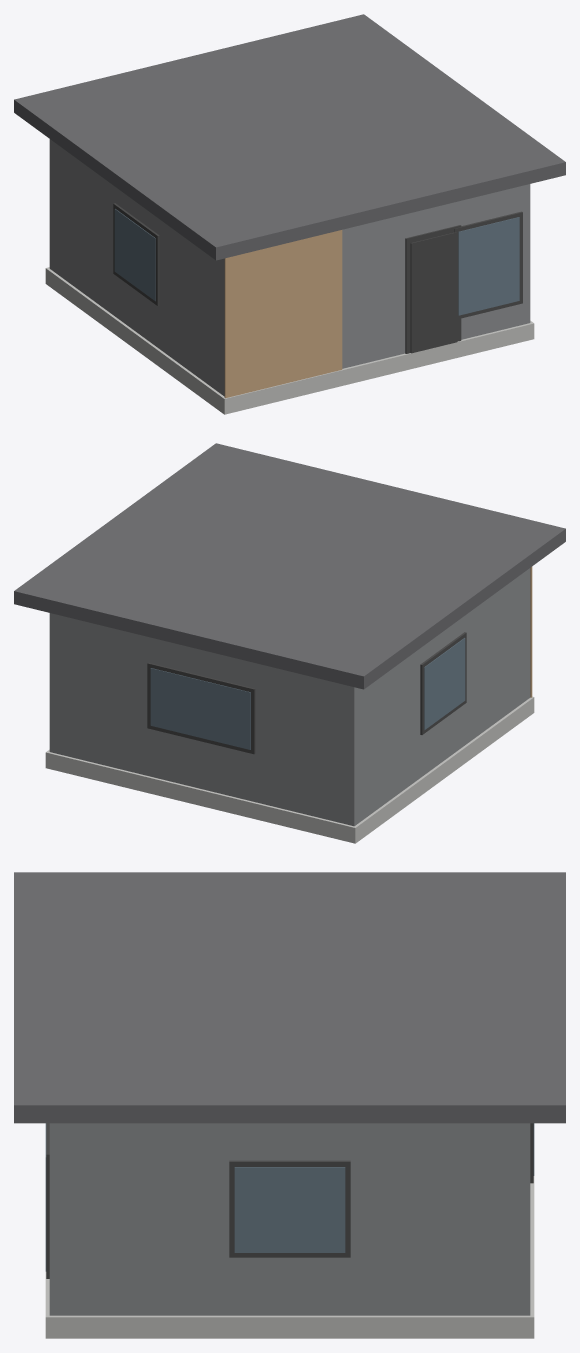
File: studio-modern.glb
The picture shows the model from 3 angles, top to bottom: view 1: azimuth 30°, elevation 25°; view 2: azimuth 150°, elevation 25°; view 3: azimuth 270°, elevation 25°; orthographic projection. The views are drawn at different scales.
Parts seen in each view (by area): view 1: The Lathrop (modern); view 2: The Lathrop (modern); view 3: The Lathrop (modern).
Boxes of the visible parts, box(x1,y1,x2,y2) form: The Lathrop (modern): box(14, 14, 565, 414); The Lathrop (modern): box(14, 443, 565, 843); The Lathrop (modern): box(14, 872, 565, 1338).
Size of the model in its own units: 7 by 3.45 by 7.
